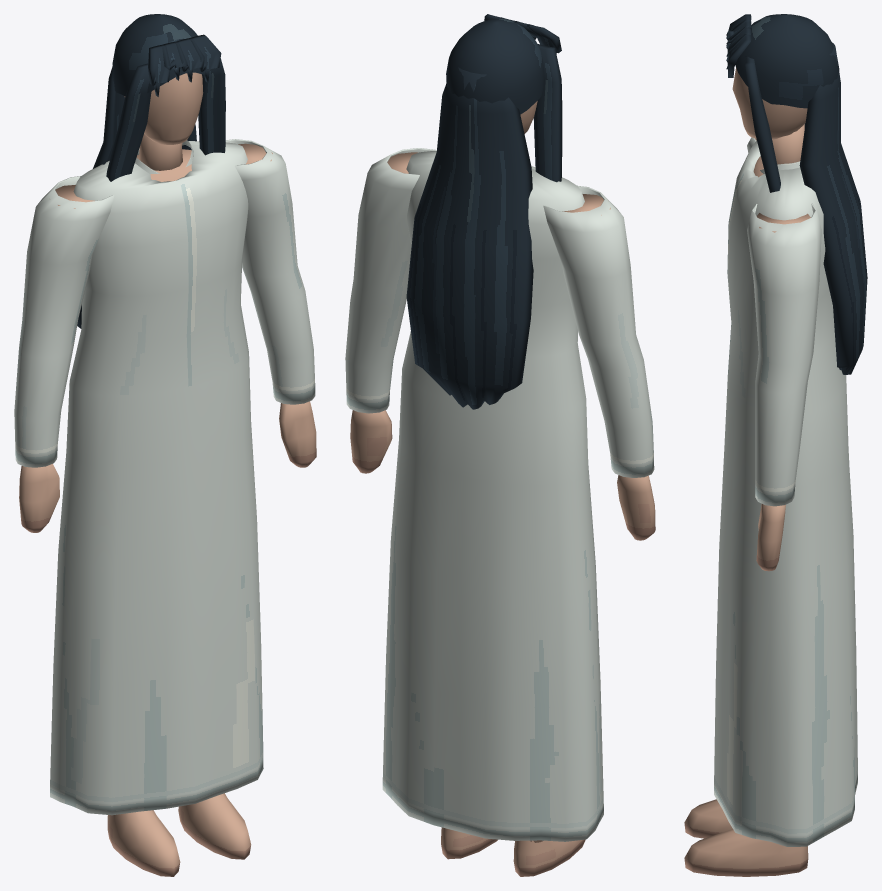
The model's file is player_lowpoly_v1.glb.
3 renders of one model, left to right at view 1: azimuth 30°, elevation 25°; view 2: azimuth 150°, elevation 25°; view 3: azimuth 270°, elevation 25°, orthographic. The views are drawn at different scales.
Visible parts, largest first — view 1: CLOTH_Long_gown_open_hem, CLOTH_Sleeve_L_open_cuff, CLOTH_Sleeve_R_open_cuff, BODY_Foot_L_bare, HAIR_Crown, BODY_Foot_R_bare, BODY_Head_faceless_volume, HAIR_Side_lock_L, BODY_Hand_L_simplified, HAIR_Side_lock_R, BODY_Hand_R_simplified, HAIR_Back_long_mass (+4 smaller); view 2: CLOTH_Long_gown_open_hem, HAIR_Back_long_mass, CLOTH_Sleeve_L_open_cuff, CLOTH_Sleeve_R_open_cuff, HAIR_Crown, HAIR_Side_lock_L, BODY_Hand_R_simplified, BODY_Hand_L_simplified, BODY_Foot_L_bare, BODY_Foot_R_bare; view 3: CLOTH_Long_gown_open_hem, CLOTH_Sleeve_R_open_cuff, HAIR_Back_long_mass, HAIR_Crown, BODY_Foot_R_bare, BODY_Head_faceless_volume, HAIR_Side_lock_R, BODY_Hand_R_simplified, BODY_Foot_L_bare, BODY_Neck, HAIR_Fringe_piece_4.
Boxes of the visible parts, x1,y1,x2,y2 form: CLOTH_Long_gown_open_hem: [50, 141, 263, 815]; CLOTH_Sleeve_L_open_cuff: [14, 176, 114, 467]; CLOTH_Sleeve_R_open_cuff: [225, 139, 315, 404]; BODY_Foot_L_bare: [107, 810, 180, 876]; HAIR_Crown: [112, 14, 203, 95]; BODY_Foot_R_bare: [178, 793, 251, 859]; BODY_Head_faceless_volume: [124, 72, 203, 144]; HAIR_Side_lock_L: [106, 63, 151, 181]; BODY_Hand_L_simplified: [19, 464, 59, 532]; HAIR_Side_lock_R: [198, 58, 225, 155]; BODY_Hand_R_simplified: [279, 401, 316, 467]; HAIR_Back_long_mass: [77, 66, 196, 328]; CLOTH_Long_gown_open_hem: [382, 151, 603, 841]; HAIR_Back_long_mass: [406, 67, 533, 409]; CLOTH_Sleeve_L_open_cuff: [543, 185, 654, 477]; CLOTH_Sleeve_R_open_cuff: [345, 148, 436, 413]; HAIR_Crown: [446, 18, 544, 114]; HAIR_Side_lock_L: [533, 44, 562, 182]; BODY_Hand_R_simplified: [350, 410, 392, 473]; BODY_Hand_L_simplified: [617, 475, 655, 540]; BODY_Foot_L_bare: [513, 839, 585, 876]; BODY_Foot_R_bare: [441, 827, 497, 859]; CLOTH_Long_gown_open_hem: [714, 140, 857, 846]; CLOTH_Sleeve_R_open_cuff: [747, 203, 821, 506]; HAIR_Back_long_mass: [799, 42, 867, 374]; HAIR_Crown: [735, 14, 839, 108]; BODY_Foot_R_bare: [684, 829, 808, 876]; BODY_Head_faceless_volume: [732, 67, 807, 139]; HAIR_Side_lock_R: [745, 56, 780, 192]; BODY_Hand_R_simplified: [756, 504, 785, 571]; BODY_Foot_L_bare: [684, 799, 732, 838]; BODY_Neck: [762, 124, 804, 164]; HAIR_Fringe_piece_4: [726, 34, 751, 77].
Bounding box in the file's own units: 0.624 × 1.65 × 0.328.
Materials: 3 (3 with a texture image).
